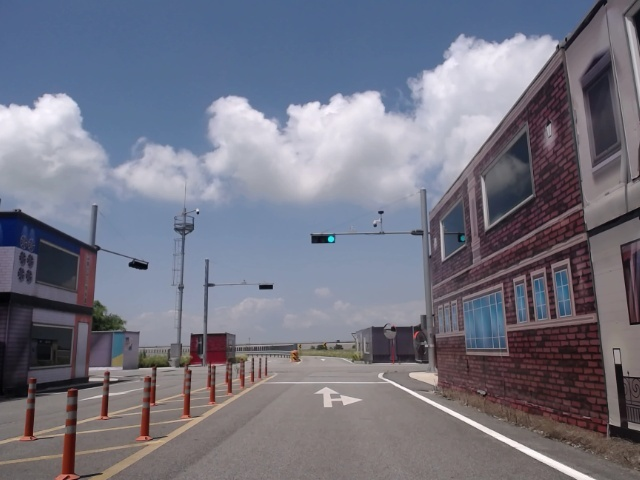green_3: (312, 235, 335, 243)
